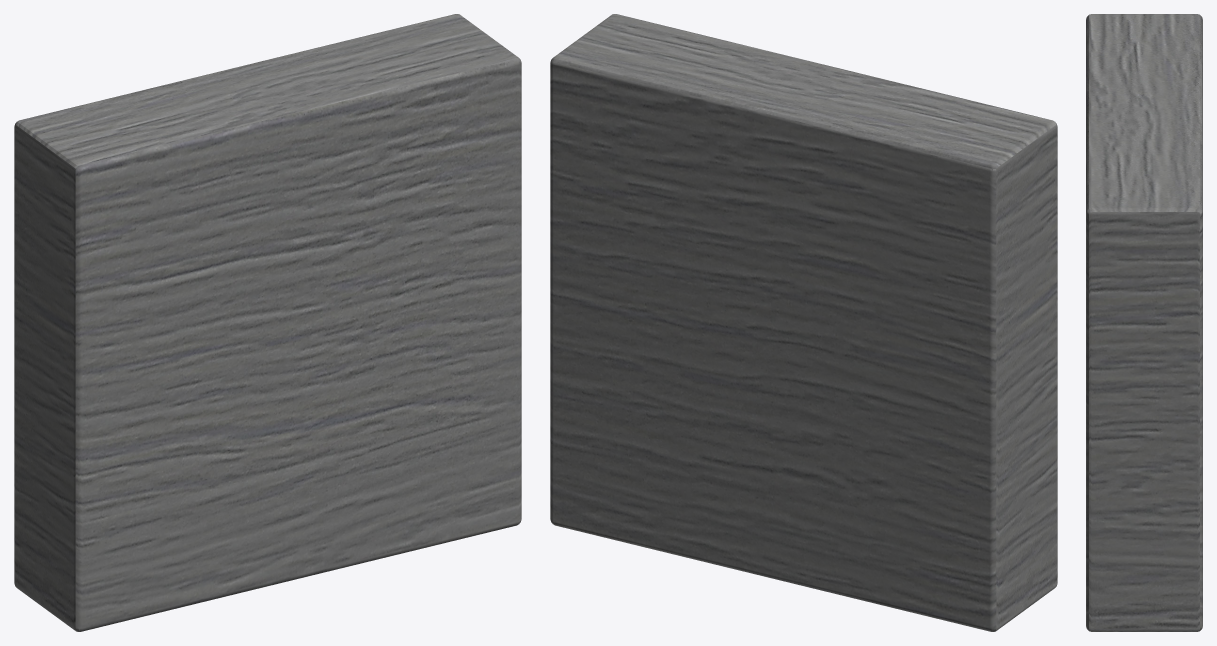
The model's file is DoorBlock001.obj.
The picture shows the model from 3 angles, left to right: view 1: azimuth 30°, elevation 25°; view 2: azimuth 150°, elevation 25°; view 3: azimuth 270°, elevation 25°; orthographic projection. The views are drawn at different scales.
Parts seen in each view (by area): view 1: pCube1; view 2: pCube1; view 3: pCube1.
Boxes of the visible parts, box(x1,y1,x2,y2) form: pCube1: box(14, 14, 521, 631); pCube1: box(550, 14, 1057, 631); pCube1: box(1086, 14, 1202, 631).
Bounding box in the file's own units: 400 × 400 × 100.
Materials: 2 (2 with a texture image).
